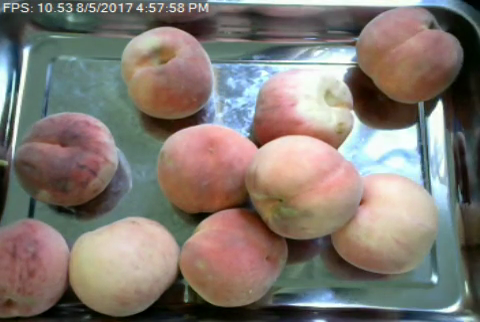Peach: (249, 135, 359, 239), (353, 4, 464, 105), (180, 208, 287, 308), (331, 174, 437, 274), (69, 218, 176, 315), (14, 111, 119, 204), (157, 124, 259, 212), (119, 23, 212, 116), (253, 67, 354, 151), (0, 219, 69, 316)
